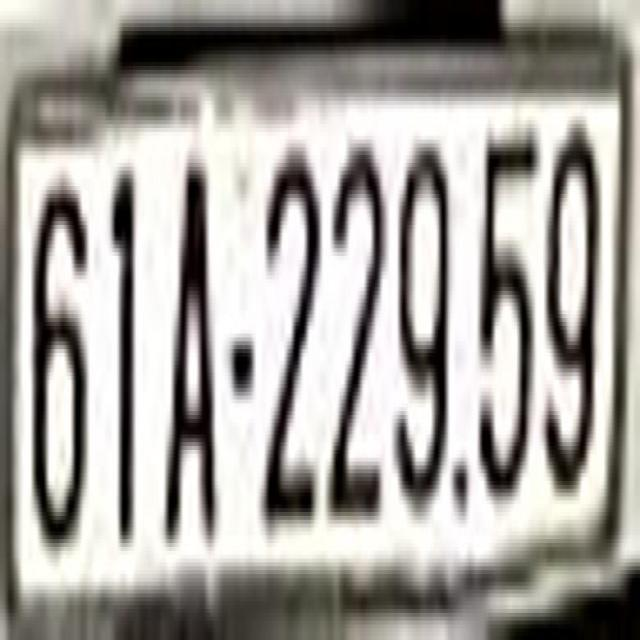1: (108, 148, 144, 566)
2: (326, 144, 386, 532), (260, 148, 318, 540)
5: (477, 128, 540, 524)
6: (31, 167, 87, 547)
9: (544, 120, 600, 516), (394, 140, 448, 524)
A: (160, 144, 222, 544)
